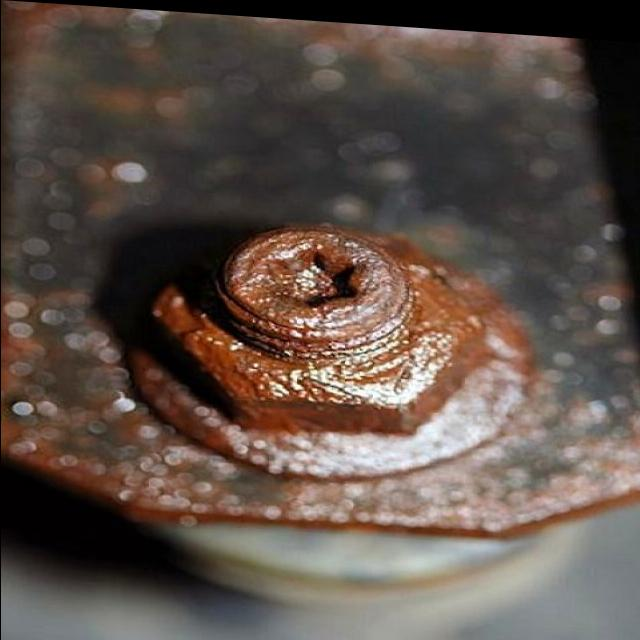Rusty bolt: (161, 218, 483, 442)
